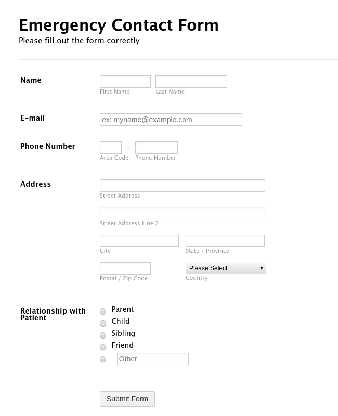textbox: (96, 176, 269, 194), (96, 205, 267, 222), (183, 231, 269, 250), (97, 232, 180, 249), (152, 73, 230, 89), (116, 351, 192, 366), (97, 260, 154, 276), (97, 74, 154, 89), (133, 140, 179, 157), (98, 138, 125, 155)
